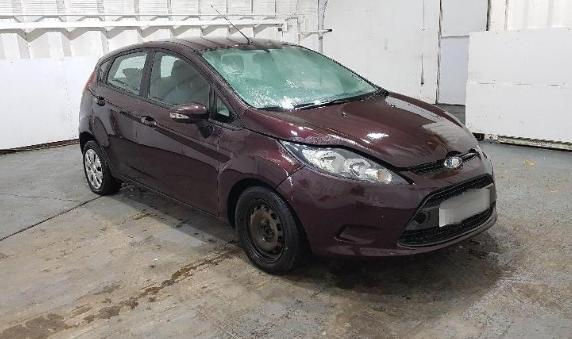Back-door: (89, 48, 152, 184)
Back-wheel: (82, 140, 123, 195)
Back-window: (108, 52, 148, 95), (99, 60, 109, 81)
Fender: (217, 127, 306, 223)
Front-bumper: (275, 143, 498, 261)
Front-door: (136, 49, 221, 217), (234, 186, 311, 275)
Front-window: (147, 52, 210, 108), (217, 95, 229, 117)
Grille: (399, 175, 496, 245), (408, 152, 475, 174)
Headlight: (279, 139, 410, 185)
Hood: (243, 89, 476, 167)
Mirror: (169, 103, 213, 137)
Quarter-panel: (78, 79, 94, 152)
Rocker-panel: (106, 162, 225, 222)
Roof: (120, 37, 296, 51)
Tail-light: (83, 72, 95, 89)
Windshield: (199, 45, 377, 109)
